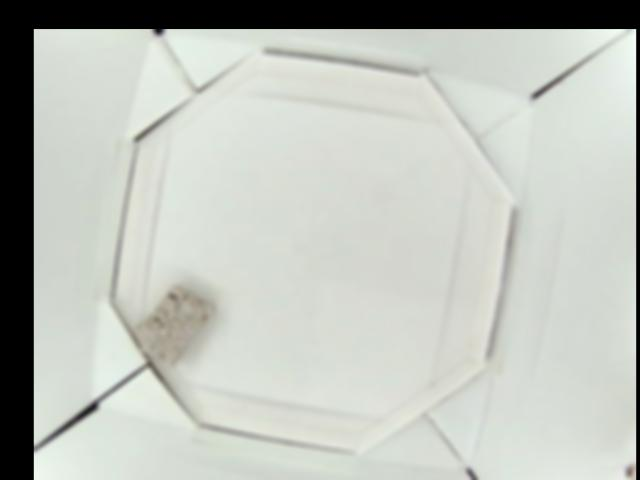China: (133, 285, 213, 363)
